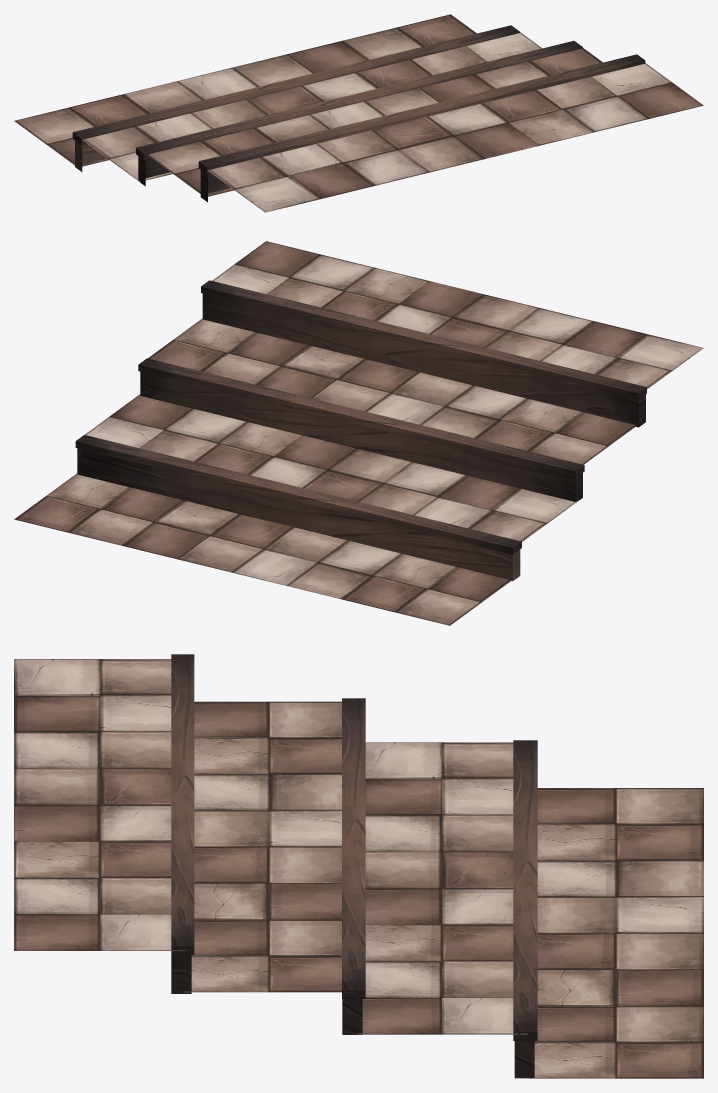
File: Straight3.fbx
The picture shows the model from 3 angles, top to bottom: view 1: azimuth 30°, elevation 25°; view 2: azimuth 150°, elevation 25°; view 3: azimuth 270°, elevation 25°; orthographic projection. The views are drawn at different scales.
Visible parts, largest first — view 1: Straight3_lp; view 2: Straight3_lp; view 3: Straight3_lp.
Boxes of the visible parts, x1,y1,x2,y2 form: Straight3_lp: [14, 14, 703, 212]; Straight3_lp: [14, 241, 703, 625]; Straight3_lp: [14, 654, 703, 1078].
Bounding box in the file's own units: 0.6047 × 0.128 × 0.6027.
